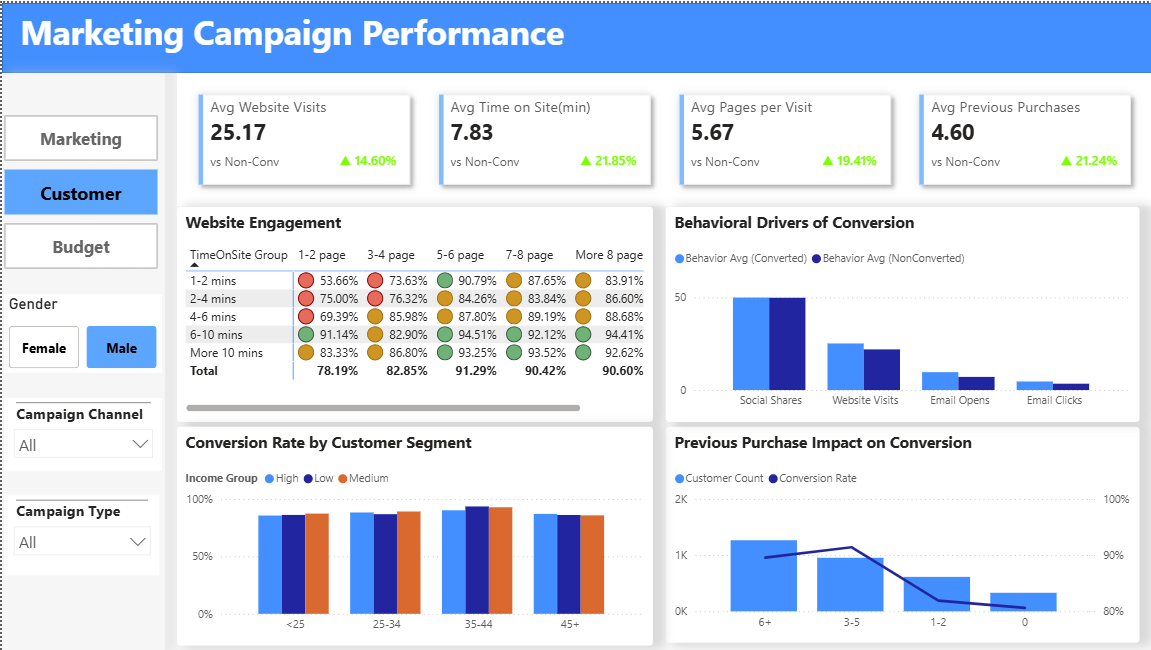

The dashboard page shown, as its layout file describes it:
{"tool":"powerbi","page":{"name":"Customer","canvas":[1280,720],"ordinal":1},"visuals":[{"type":"shape","box":[0,0,1280.3,77.9],"z":0},{"type":"textbox","box":[15.3,1.3,1250.9,77.9],"z":1000},{"type":"shape","box":[0,77.8,180.6,641.7],"z":2000},{"type":"cardVisual","fields":{"Data":["marketing_data.M_AvgWebsiteVisits(Converted)","marketing_data.M_AvgTimeonSite(Converted)","marketing_data.M_AvgPagesperVisit (Converted)","marketing_data.M_AvgPreviousPurchases (Converted)"]},"box":[194.4,77.8,1086.1,148.6],"z":3000},{"type":"slicer","fields":{"Values":["marketing_data.campaignchannel"]},"box":[2.8,438.9,175,80.6],"z":4000},{"type":"slicer","fields":{"Values":["marketing_data.campaigntype"]},"box":[2.8,547.2,172.2,88.9],"z":5000},{"type":"advancedSlicerVisual","fields":{"Values":["marketing_data.gender"]},"box":[2.8,323.6,175,87.5],"z":6000},{"type":"pageNavigator","box":[2.8,125,170.8,170.8],"z":7000},{"type":"pivotTable","title":"Website Engagement","fields":{"Columns":["marketing_data.Pagepervisit Group"],"Values":["marketing_data.M_ConversionRate"],"Rows":["marketing_data.TimeOnSite Group"]},"box":[194.4,226.4,529.2,238.9],"z":8000},{"type":"lineClusteredColumnComboChart","title":"Previous Purchase Impact on Conversion","fields":{"Y2":["marketing_data.M_ConversionRate"],"Y":["CountNonNull(marketing_data.customerid)"],"Category":["marketing_data.PreviousPurchase Group"]},"box":[737.5,470.8,526.4,240.3],"z":9000},{"type":"clusteredColumnChart","title":"Behavioral Drivers of Conversion","fields":{"Category":["Behavior.Behavior"],"Y":["Behavior.Behavior Avg (Converted)","Behavior.Behavior Avg (NonConverted)"]},"box":[737.5,226.4,526.4,238.9],"z":10000},{"type":"clusteredColumnChart","title":"Conversion Rate by Customer Segment","fields":{"Category":["marketing_data.Age Group"],"Series":["marketing_data.Income Group"],"Y":["marketing_data.M_ConversionRate"]},"box":[194.4,470.8,529.2,243.1],"z":11000}]}

Visuals, with their boxes in screenshot pixels (x1, y1, x2, y2), scaled from the page's 1280x720 canvas onto the 1151x650 screenshot:
shape: Rect(0, 0, 1150, 70)
textbox: Rect(14, 1, 1139, 72)
shape: Rect(0, 70, 162, 649)
cardVisual - marketing_data.M_AvgWebsiteVisits(Converted) x marketing_data.M_AvgTimeonSite(Converted): Rect(175, 70, 1150, 204)
slicer - marketing_data.campaignchannel: Rect(3, 396, 160, 469)
slicer - marketing_data.campaigntype: Rect(3, 494, 157, 574)
advancedSlicerVisual - marketing_data.gender: Rect(3, 292, 160, 371)
pageNavigator: Rect(3, 113, 156, 267)
"Website Engagement" pivotTable: Rect(175, 204, 651, 420)
"Previous Purchase Impact on Conversion" lineClusteredColumnComboChart: Rect(663, 425, 1137, 642)
"Behavioral Drivers of Conversion" clusteredColumnChart: Rect(663, 204, 1137, 420)
"Conversion Rate by Customer Segment" clusteredColumnChart: Rect(175, 425, 651, 644)
